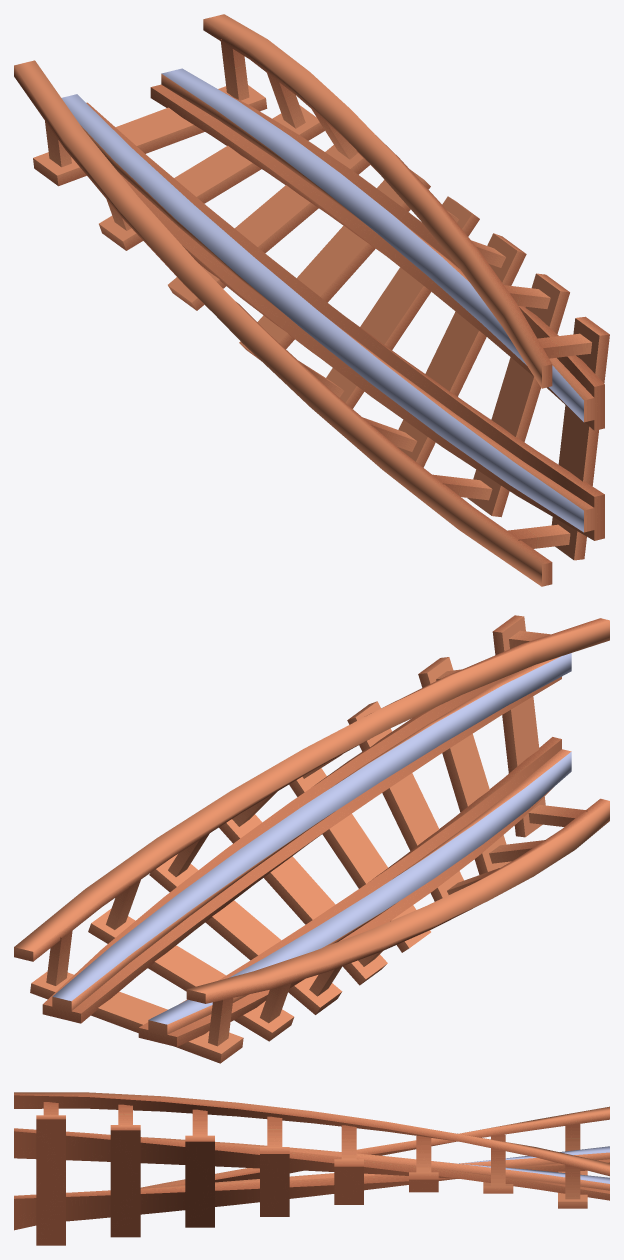
File: coaster_wood_straight_skew_right_side.glb
The picture shows the model from 3 angles, top to bottom: view 1: azimuth 30°, elevation 25°; view 2: azimuth 150°, elevation 25°; view 3: azimuth 270°, elevation 25°; orthographic projection. The views are drawn at different scales.
Parts seen in each view (by area): view 1: coaster-wood-straight-skew-right-side; view 2: coaster-wood-straight-skew-right-side; view 3: coaster-wood-straight-skew-right-side.
Boxes of the visible parts, x1,y1,x2,y2 form: coaster-wood-straight-skew-right-side: (14,14,609,586); coaster-wood-straight-skew-right-side: (14,615,609,1063); coaster-wood-straight-skew-right-side: (14,1092,609,1245).
Bounding box in the file's own units: 1.08 × 1.08 × 4.
Materials: 1 (1 with a texture image).
